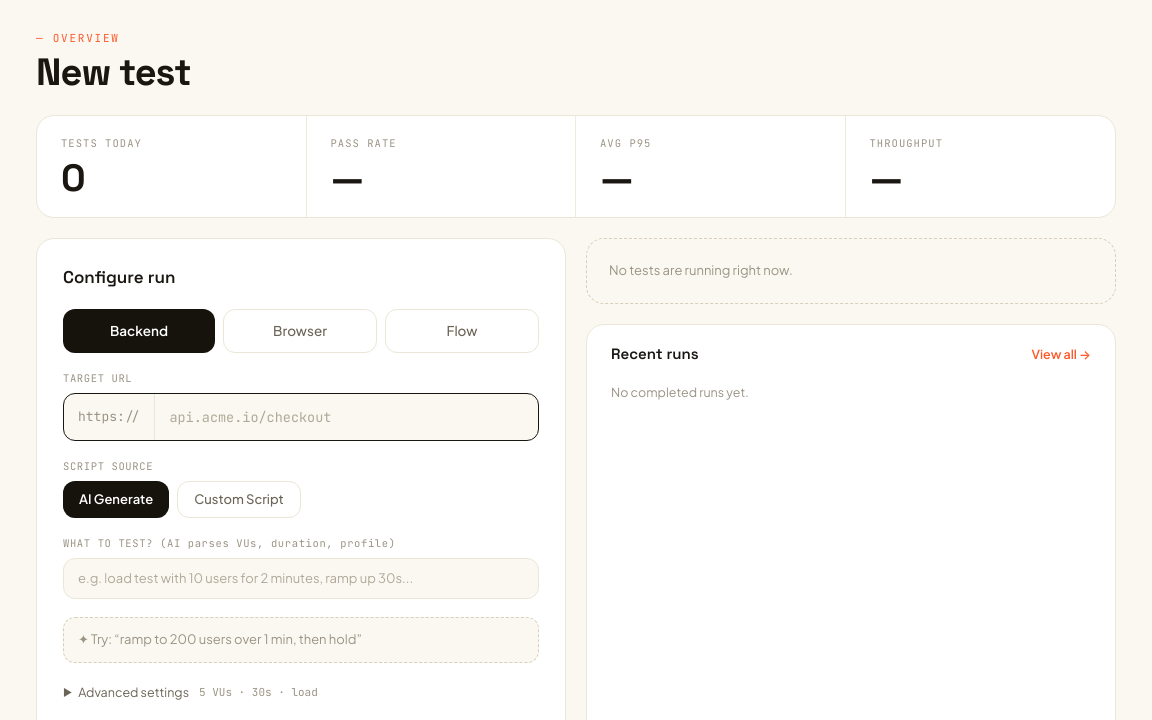
Test: Home page — form validation › shows load profile selector for backend type inside Advanced settings
The image size is (1152, 720).
Expected: the button "Backend" is shown, [63,309,215,353]
Click the button "▶ Advanced settings 5 VUs · 30s · load".
click(190, 692)  # box [63,681,318,704]
(page scrolled)
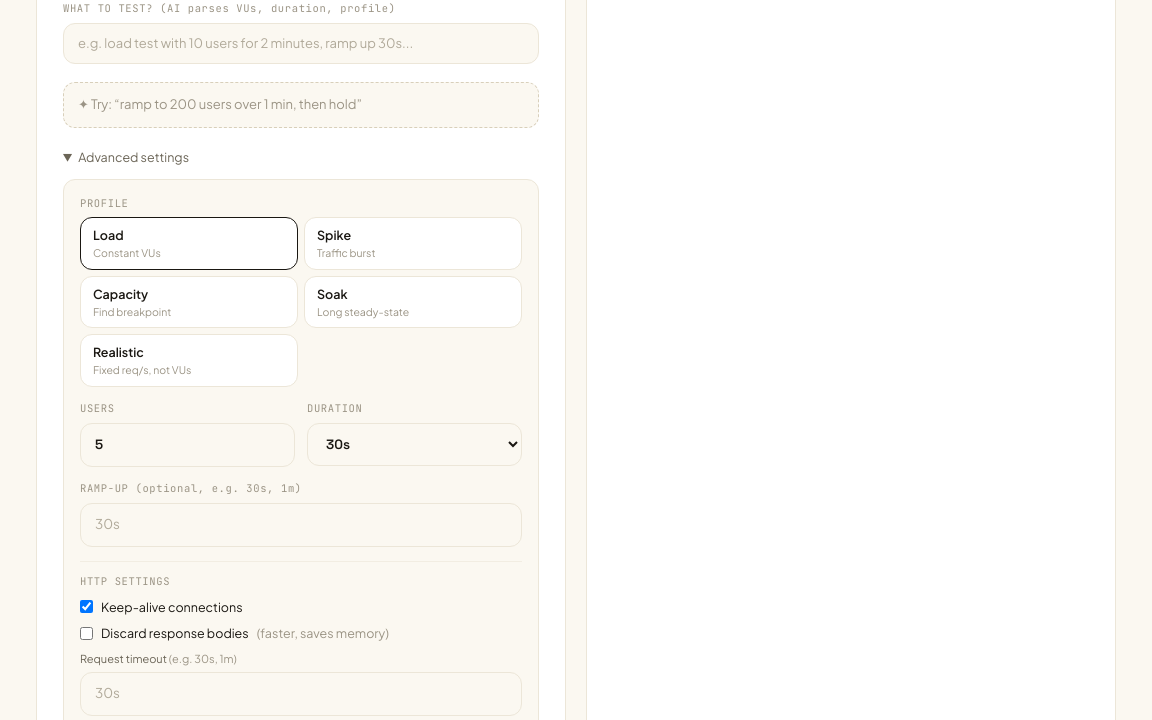
Expected: the button "Spike Traffic burst" is shown, [304,217,522,270]
Expected: the button "Soak Long steady-state" is shown, [304,276,522,328]
Expected: the button "Realistic Fixed req/s, not VUs" is shown, [80,334,298,387]
